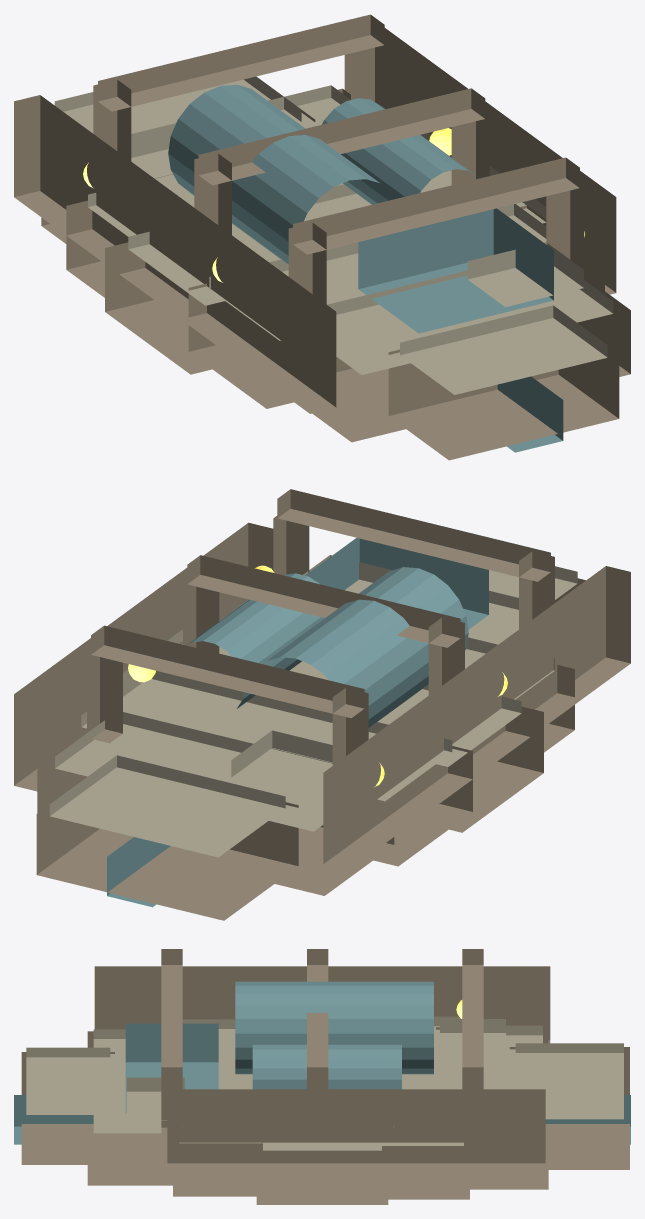
File: deepRecoveryWreckHull.3942c3ce.glb
The picture shows the model from 3 angles, top to bottom: view 1: azimuth 30°, elevation 25°; view 2: azimuth 150°, elevation 25°; view 3: azimuth 270°, elevation 25°; orthographic projection. The views are drawn at different scales.
Parts seen in each view (by area): view 1: rustHull, darkMetal, wornDeck, survivingLamps; view 2: rustHull, wornDeck, darkMetal, survivingLamps; view 3: rustHull, wornDeck, darkMetal.
Boxes of the visible parts, box(x1,y1,x2,y2) form: rustHull: box(14, 14, 630, 460); darkMetal: box(168, 84, 563, 452); wornDeck: box(54, 76, 613, 394); survivingLamps: box(83, 128, 585, 282); rustHull: box(14, 489, 630, 920); wornDeck: box(49, 555, 577, 857); darkMetal: box(107, 538, 488, 907); survivingLamps: box(128, 565, 507, 786); rustHull: box(21, 949, 629, 1204); wornDeck: box(26, 1016, 623, 1150); darkMetal: box(14, 981, 630, 1144).
Bounding box in the file's own units: 3.5 × 1.54 × 6.36.
